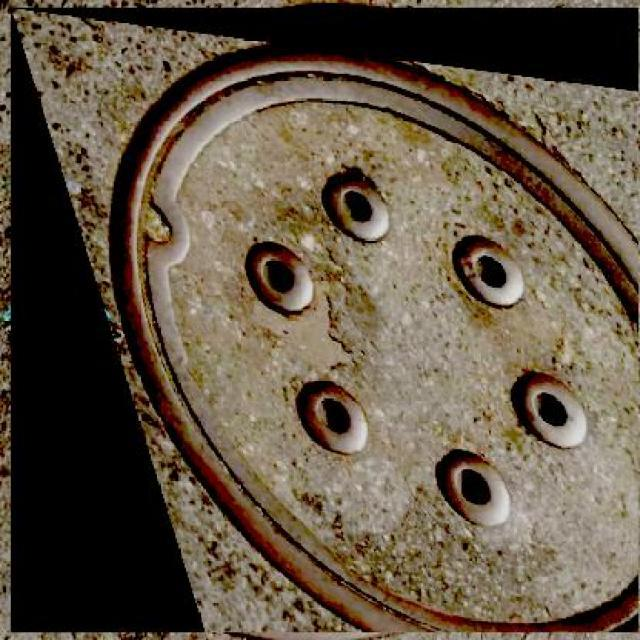Manhole: (11, 8, 638, 632)
